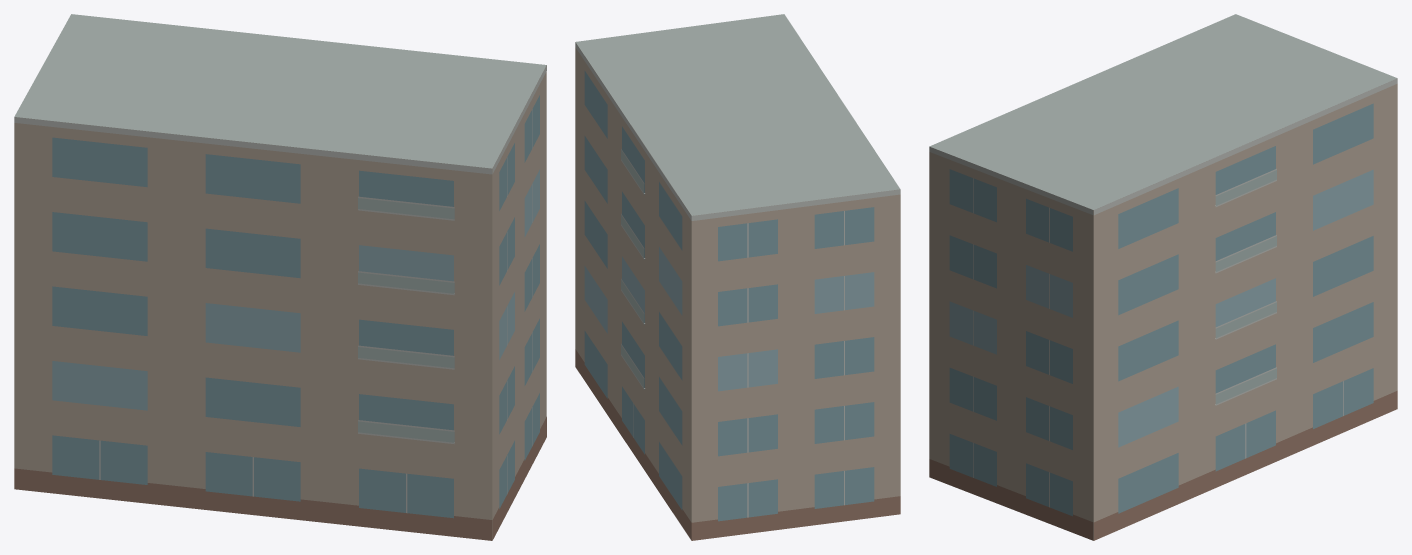
Rendered from survey-upis-32653120.glb.
3 renders of one model, left to right at view 1: azimuth 30°, elevation 25°; view 2: azimuth 150°, elevation 25°; view 3: azimuth 270°, elevation 25°, orthographic. The views are drawn at different scales.
Parts seen in each view (by area): view 1: survey-upis-32653120.tmp; view 2: survey-upis-32653120.tmp; view 3: survey-upis-32653120.tmp.
Part boxes in pixels (bbox=[...]): survey-upis-32653120.tmp: bbox=[14, 14, 546, 540]; survey-upis-32653120.tmp: bbox=[575, 14, 900, 540]; survey-upis-32653120.tmp: bbox=[929, 14, 1397, 540].
Bounding box in the file's own units: 19.47 × 15.3 × 19.65.
